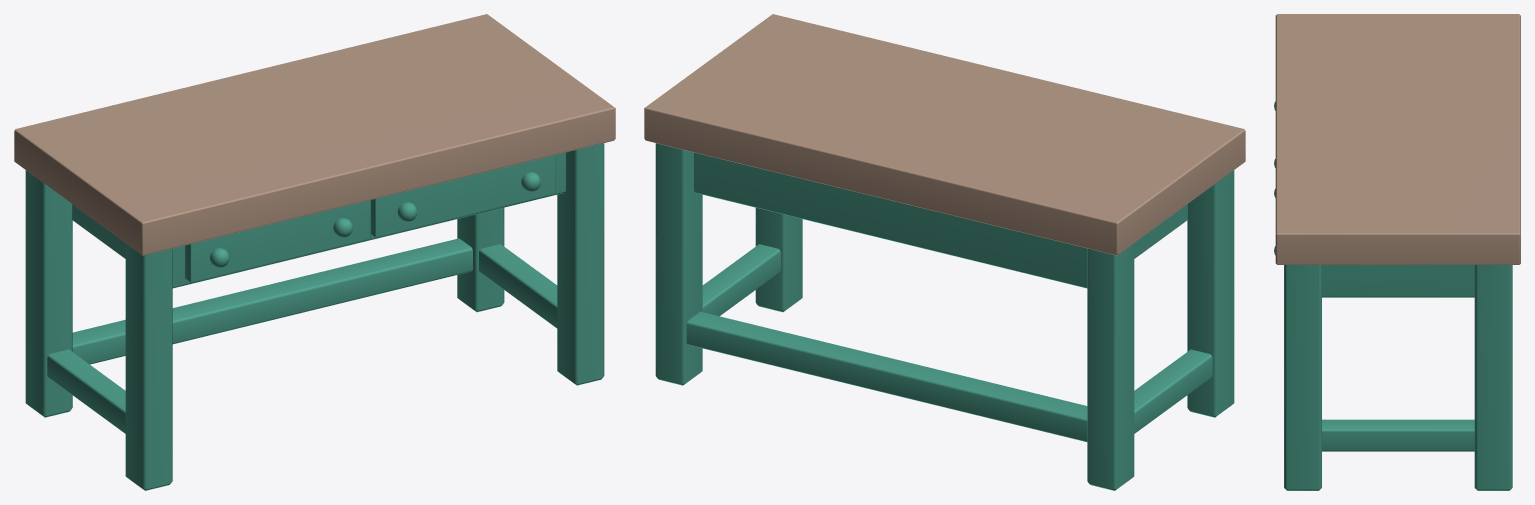
Rendered from Table_green.glb.
3 renders of one model, left to right at view 1: azimuth 30°, elevation 25°; view 2: azimuth 150°, elevation 25°; view 3: azimuth 270°, elevation 25°, orthographic. The views are drawn at different scales.
Parts seen in each view (by area): view 1: Table_10; view 2: Table_10; view 3: Table_10.
Boxes of the visible parts, left/top/right/bottom form: Table_10: left=14, top=14, right=615, bottom=490; Table_10: left=644, top=14, right=1245, bottom=490; Table_10: left=1274, top=14, right=1520, bottom=490.
Bounding box in the file's own units: 2.15 × 1.19 × 1.02.
1 material, 1 textured.
